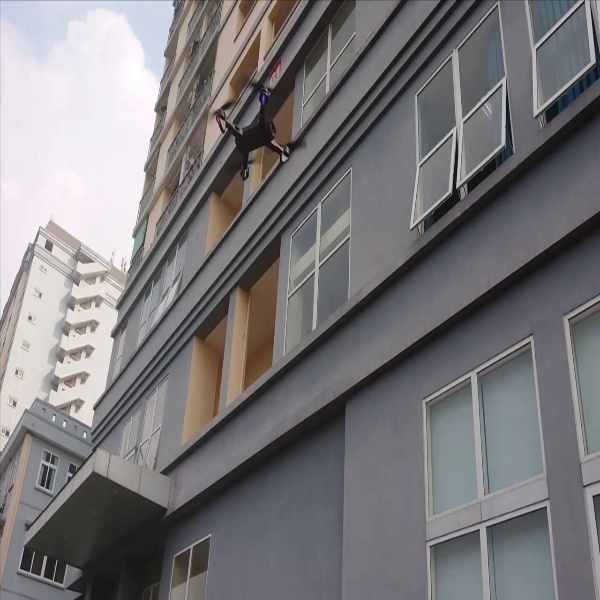drone: (206, 74, 310, 181)
